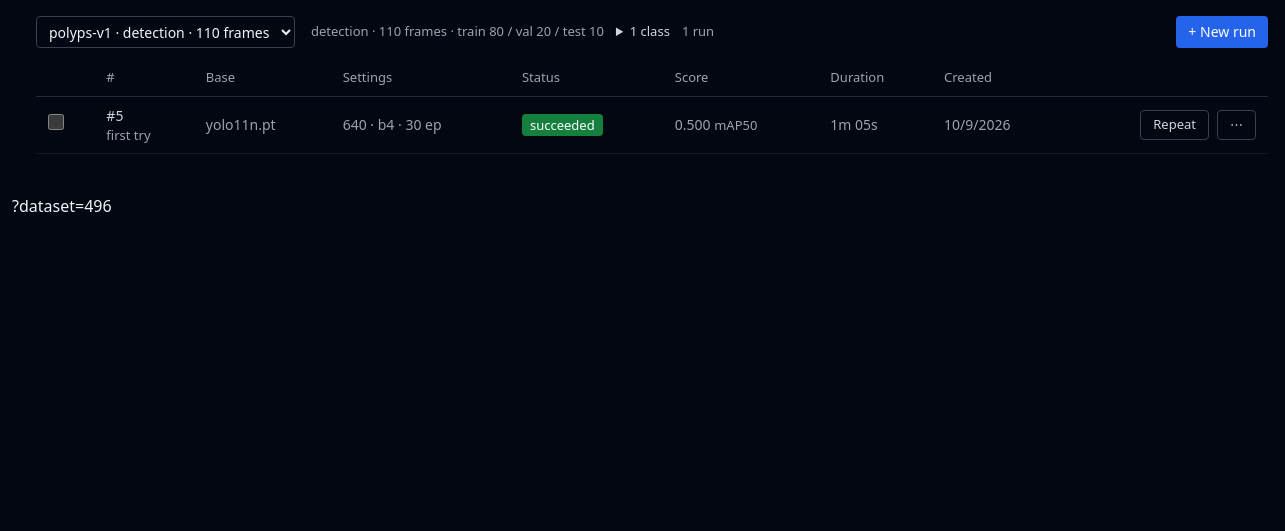
Scenario: TrainPage › deleting a run › clears a refused-delete message when another dataset is selected or a run is opened
The width and height of the screenshot is (1285, 531).
Click the button "⋯": [1236, 125] box 1217,110 -> 1256,140
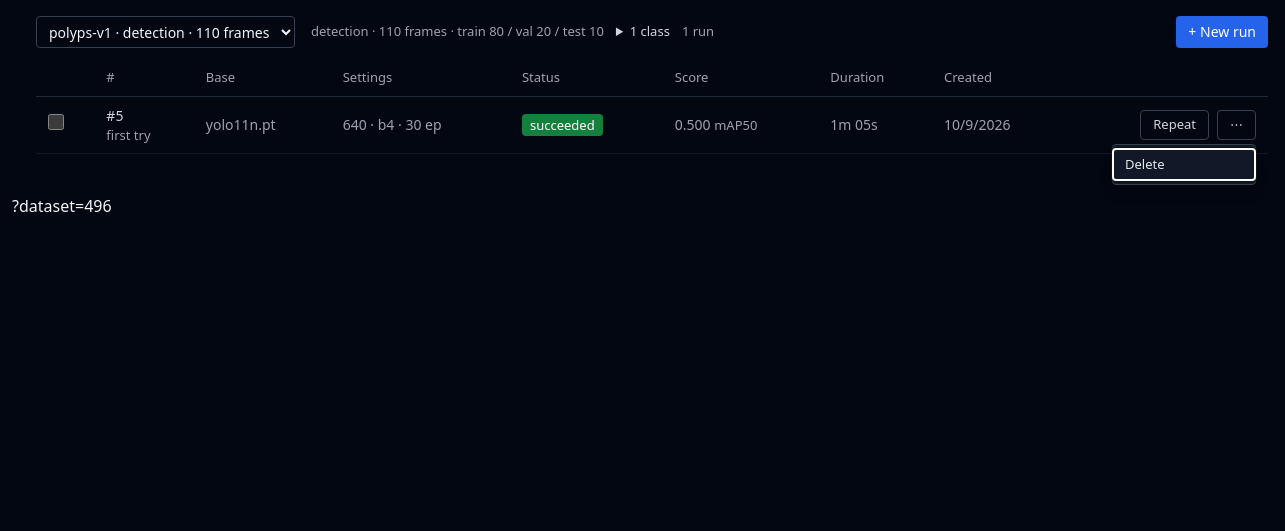
Click the menu item "Delete": [1184, 164] box 1113,148 -> 1255,180
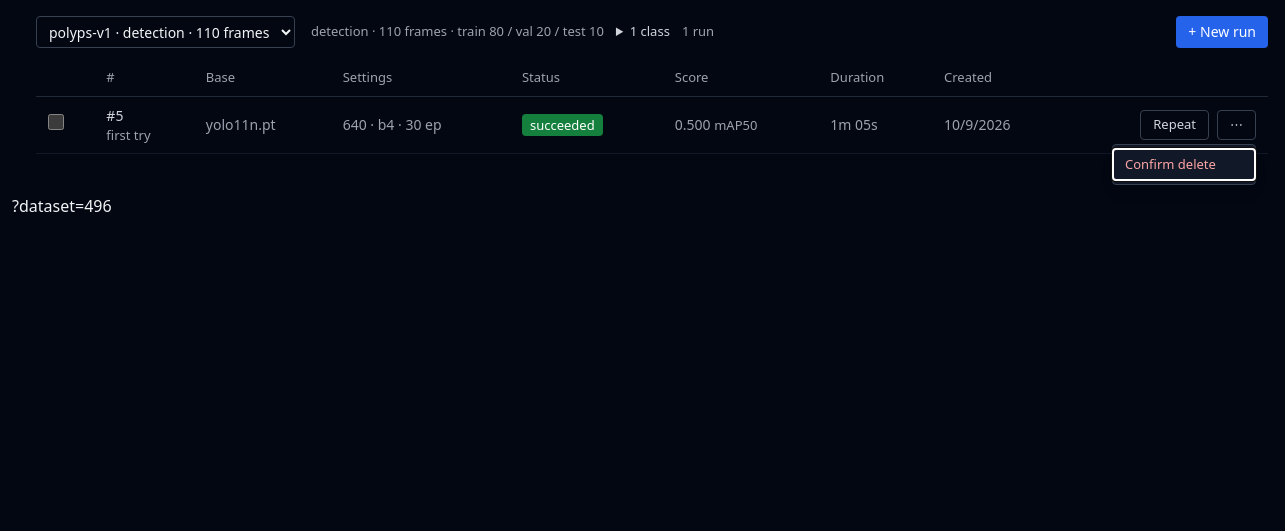
Click the menu item with aria-label "Confirm delete run 5": [1184, 164] box 1113,148 -> 1255,180
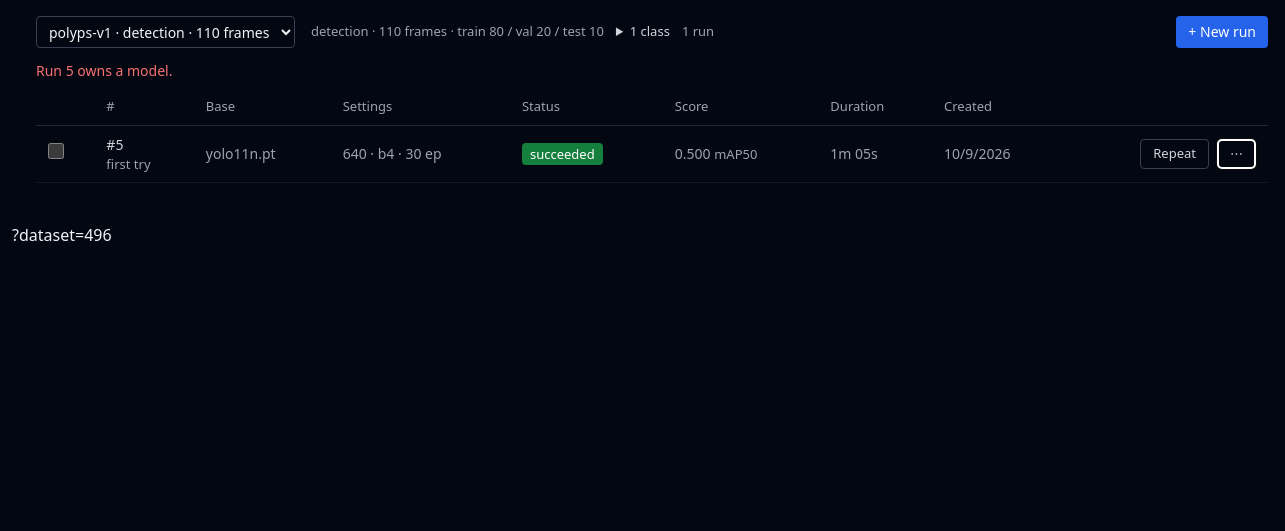
Now the message "Run 5 owns a model." is shown, box 36,61 -> 172,80
Click the text "#5": [115, 144] box 106,134 -> 124,154
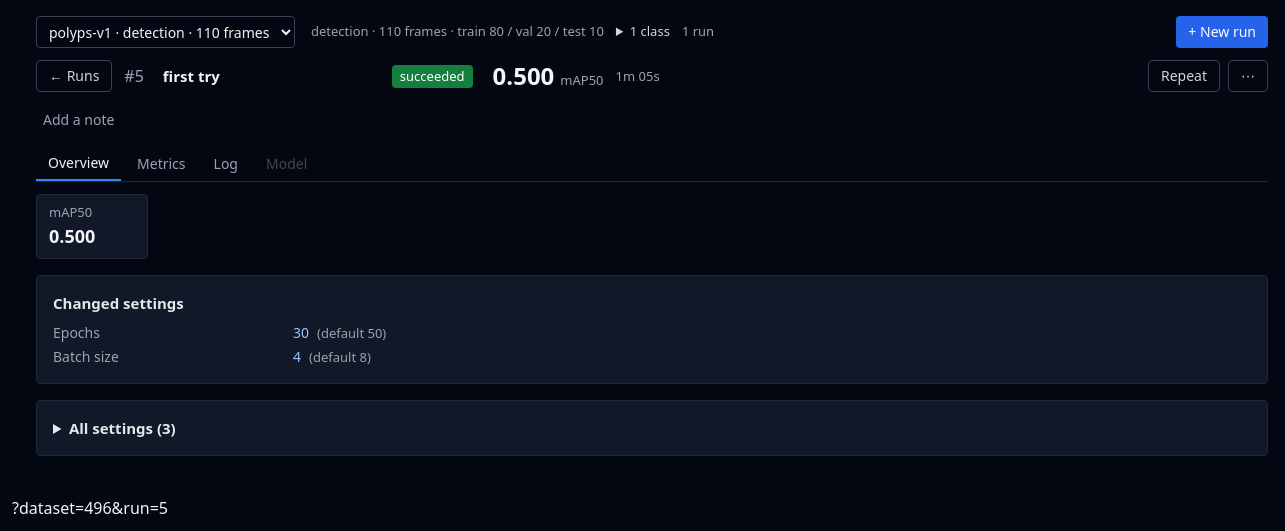
Now the text "Run 5 owns a model." is gone
